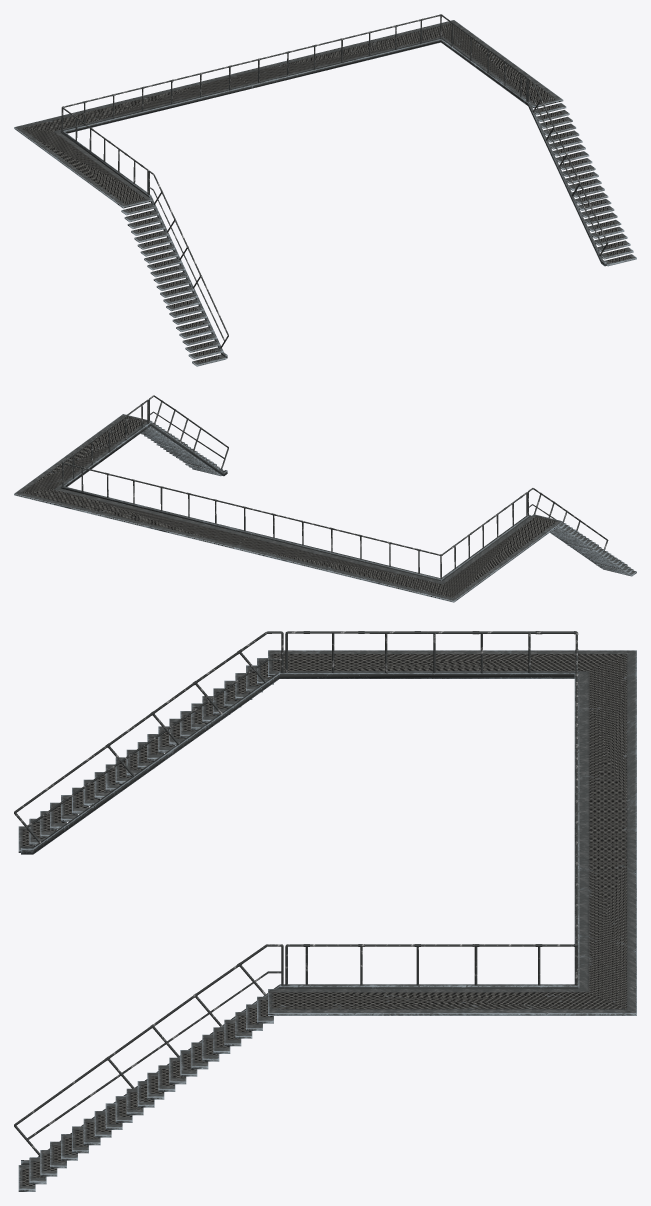
Rendered from Floor_stairs_mdl.fbx.
3 views of the same model, one above another, from view 1: azimuth 30°, elevation 25°; view 2: azimuth 150°, elevation 25°; view 3: azimuth 270°, elevation 25° (orthographic). The views are drawn at different scales.
Parts seen in each view (by area): view 1: Floor_stairs_mdl_1; view 2: Floor_stairs_mdl_1; view 3: Floor_stairs_mdl_1.
Boxes of the visible parts, x1,y1,x2,y2 form: Floor_stairs_mdl_1: [14, 14, 636, 366]; Floor_stairs_mdl_1: [14, 395, 636, 602]; Floor_stairs_mdl_1: [14, 631, 636, 1191].
Bounding box in the file's own units: 172 × 49.13 × 125.
